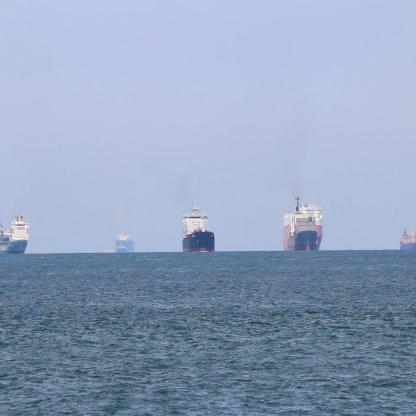Container Ship: (281, 193, 323, 257), (181, 194, 215, 259), (0, 210, 30, 259), (112, 231, 133, 259), (398, 226, 416, 252), (102, 247, 115, 258)
